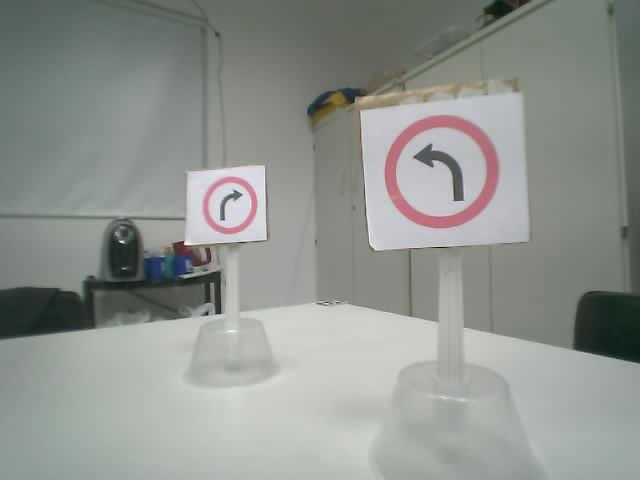R-25a_esquerda: (382, 114, 500, 228)
R-25b_direita: (202, 175, 258, 234)
